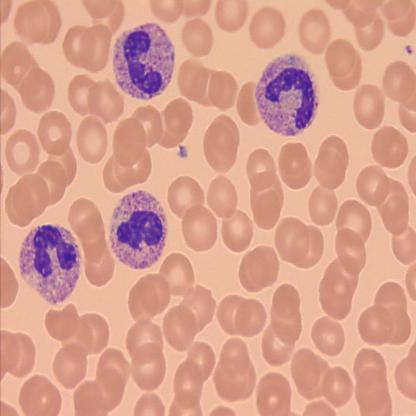Band Neutrophil: (254, 51, 322, 139), (18, 221, 82, 306), (108, 188, 170, 274), (111, 20, 175, 102)
